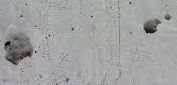Spalling: (3, 30, 33, 66), (143, 17, 162, 34), (164, 13, 171, 21)
